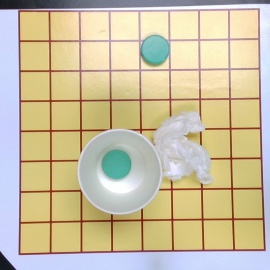cup_green: (77, 128, 163, 215)
green: (141, 35, 169, 63)
